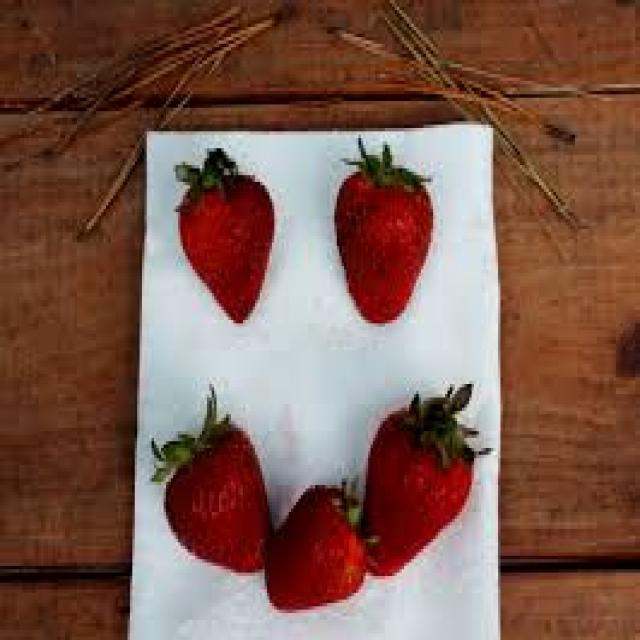Strawberry: (352, 398, 476, 580), (332, 168, 437, 328), (167, 421, 267, 583), (178, 166, 276, 326), (268, 483, 366, 608)
